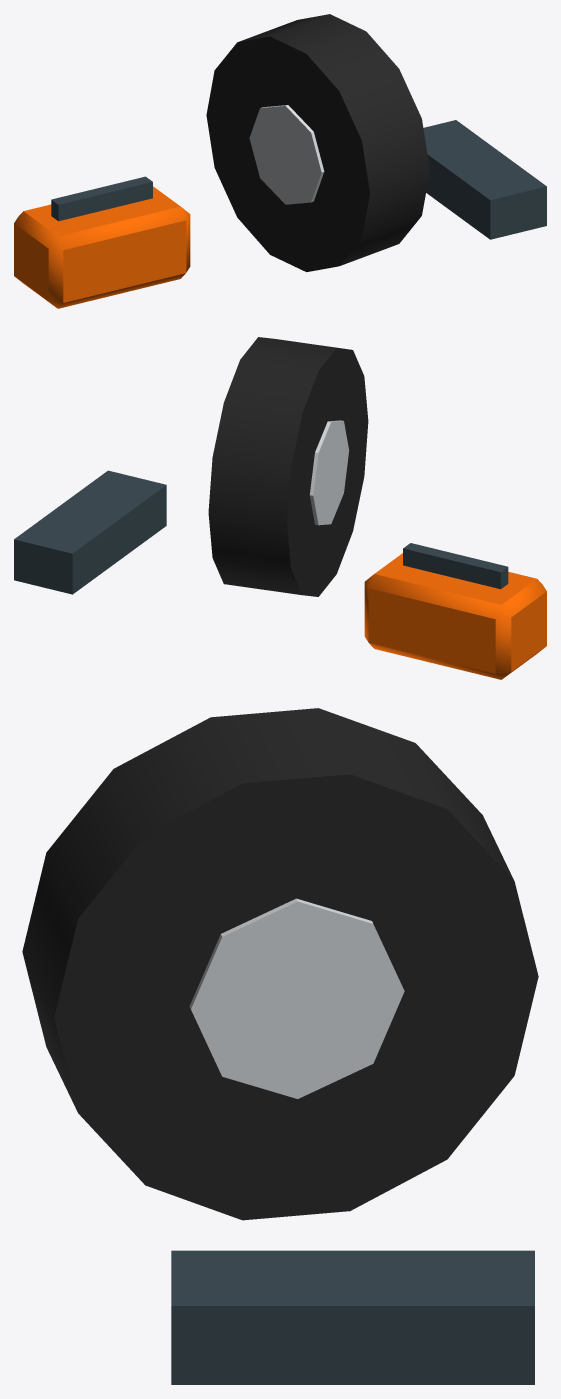
File: community_spare.glb
3 renders of one model, top to bottom at view 1: azimuth 30°, elevation 25°; view 2: azimuth 150°, elevation 25°; view 3: azimuth 270°, elevation 25°, orthographic. The views are drawn at different scales.
Visible parts, largest first — view 1: CommunitySpare_body; view 2: CommunitySpare_body; view 3: CommunitySpare_body.
Boxes of the visible parts, x1,y1,x2,y2 form: CommunitySpare_body: [14, 14, 546, 308]; CommunitySpare_body: [14, 337, 546, 679]; CommunitySpare_body: [22, 708, 538, 1384].
Size of the model in its own units: 1.47 by 0.6715 by 0.7102.
